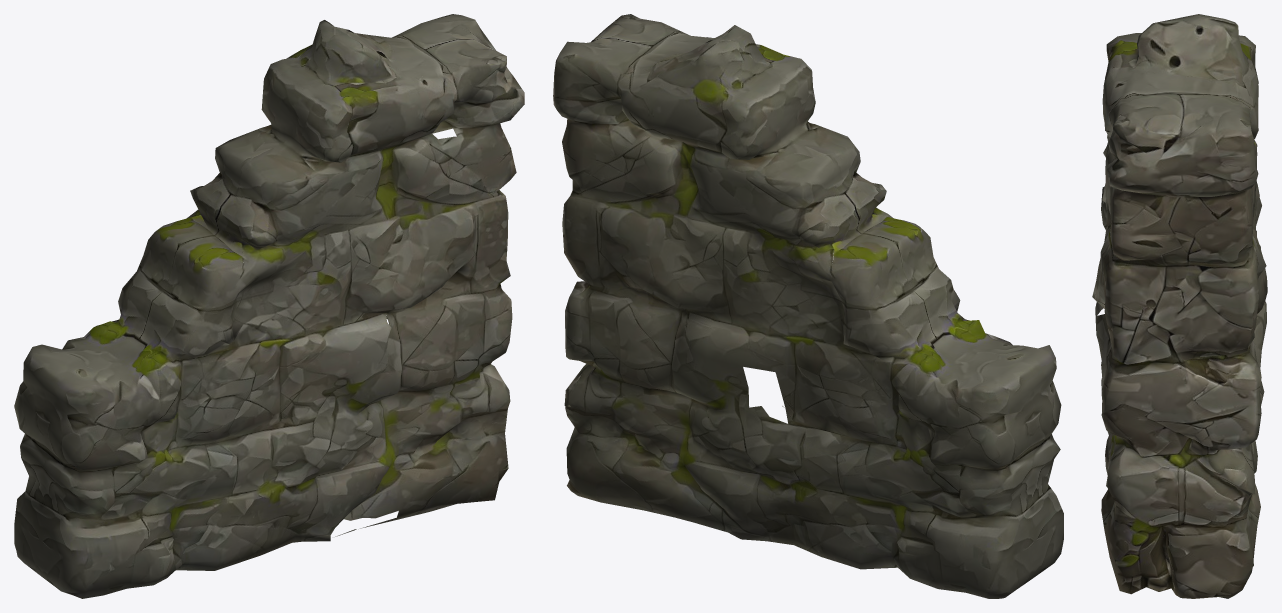
The model's file is wall.glb.
3 views of the same model, side by side, from view 1: azimuth 30°, elevation 25°; view 2: azimuth 150°, elevation 25°; view 3: azimuth 270°, elevation 25° (orthographic). The views are drawn at different scales.
Parts seen in each view (by area): view 1: tripo_node_697bbc24; view 2: tripo_node_697bbc24; view 3: tripo_node_697bbc24.
Part boxes in pixels (x1,y1,x2,y2): tripo_node_697bbc24: (14, 14, 524, 598); tripo_node_697bbc24: (553, 14, 1063, 598); tripo_node_697bbc24: (1092, 14, 1267, 598).
Size of the model in its own units: 96.69 by 96.67 by 29.71.
Materials: 1 (1 with a texture image).
